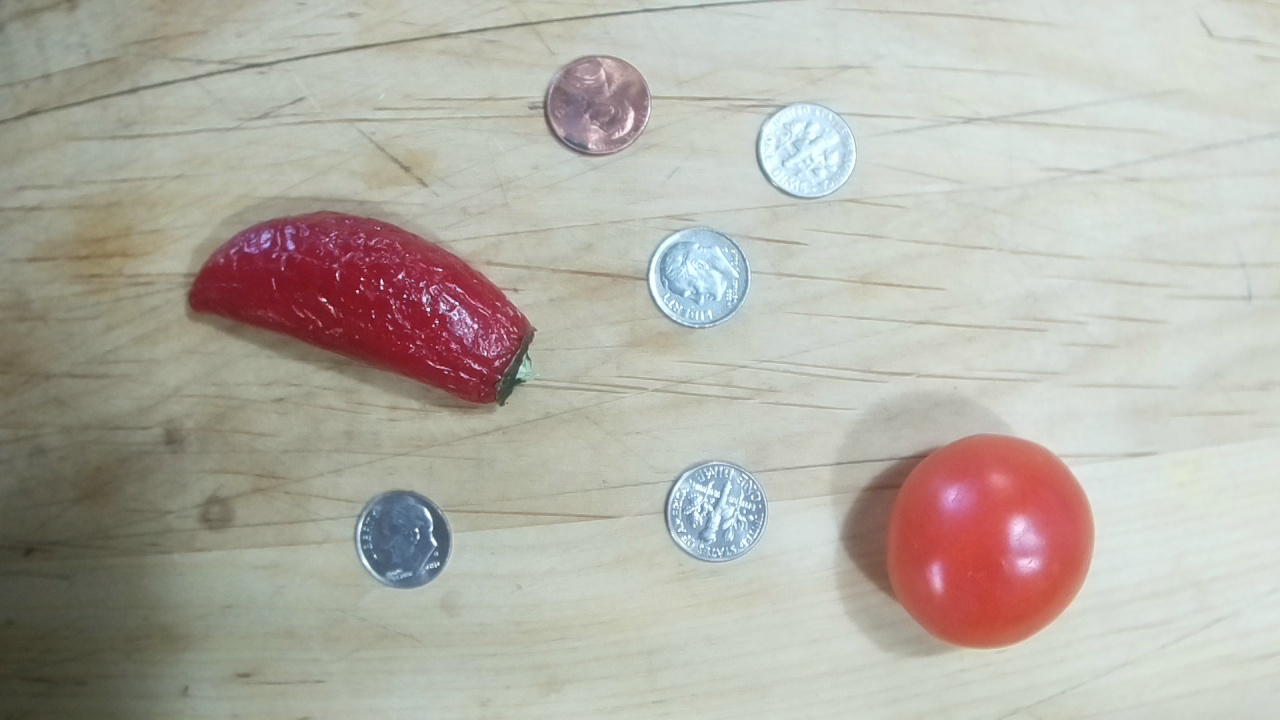dime: (662, 458, 768, 564), (645, 226, 751, 330), (754, 99, 858, 201), (354, 489, 454, 593)
penny: (541, 52, 653, 156)
